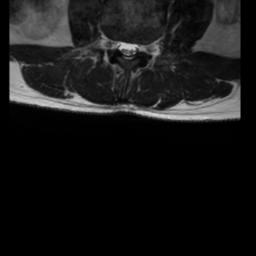CCS_normal: (124, 33, 132, 66)
LFS_normal: (139, 36, 147, 59)
LLS_normal: (132, 35, 139, 61)
RFS_normal: (109, 32, 117, 58)
RLS_normal: (117, 34, 124, 59)
